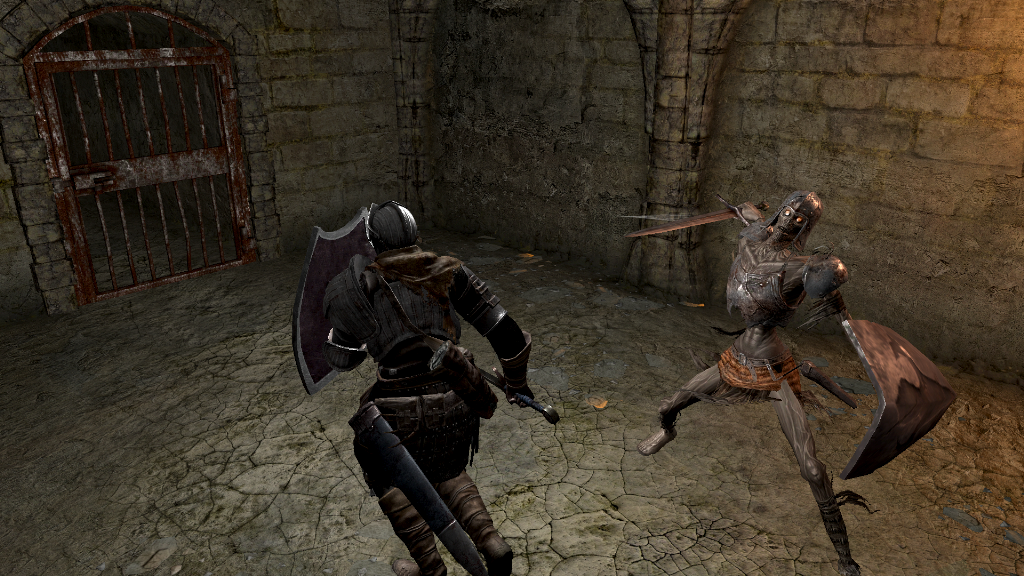player: (292, 201, 560, 576)
undeadSoldier: (639, 187, 864, 576)
